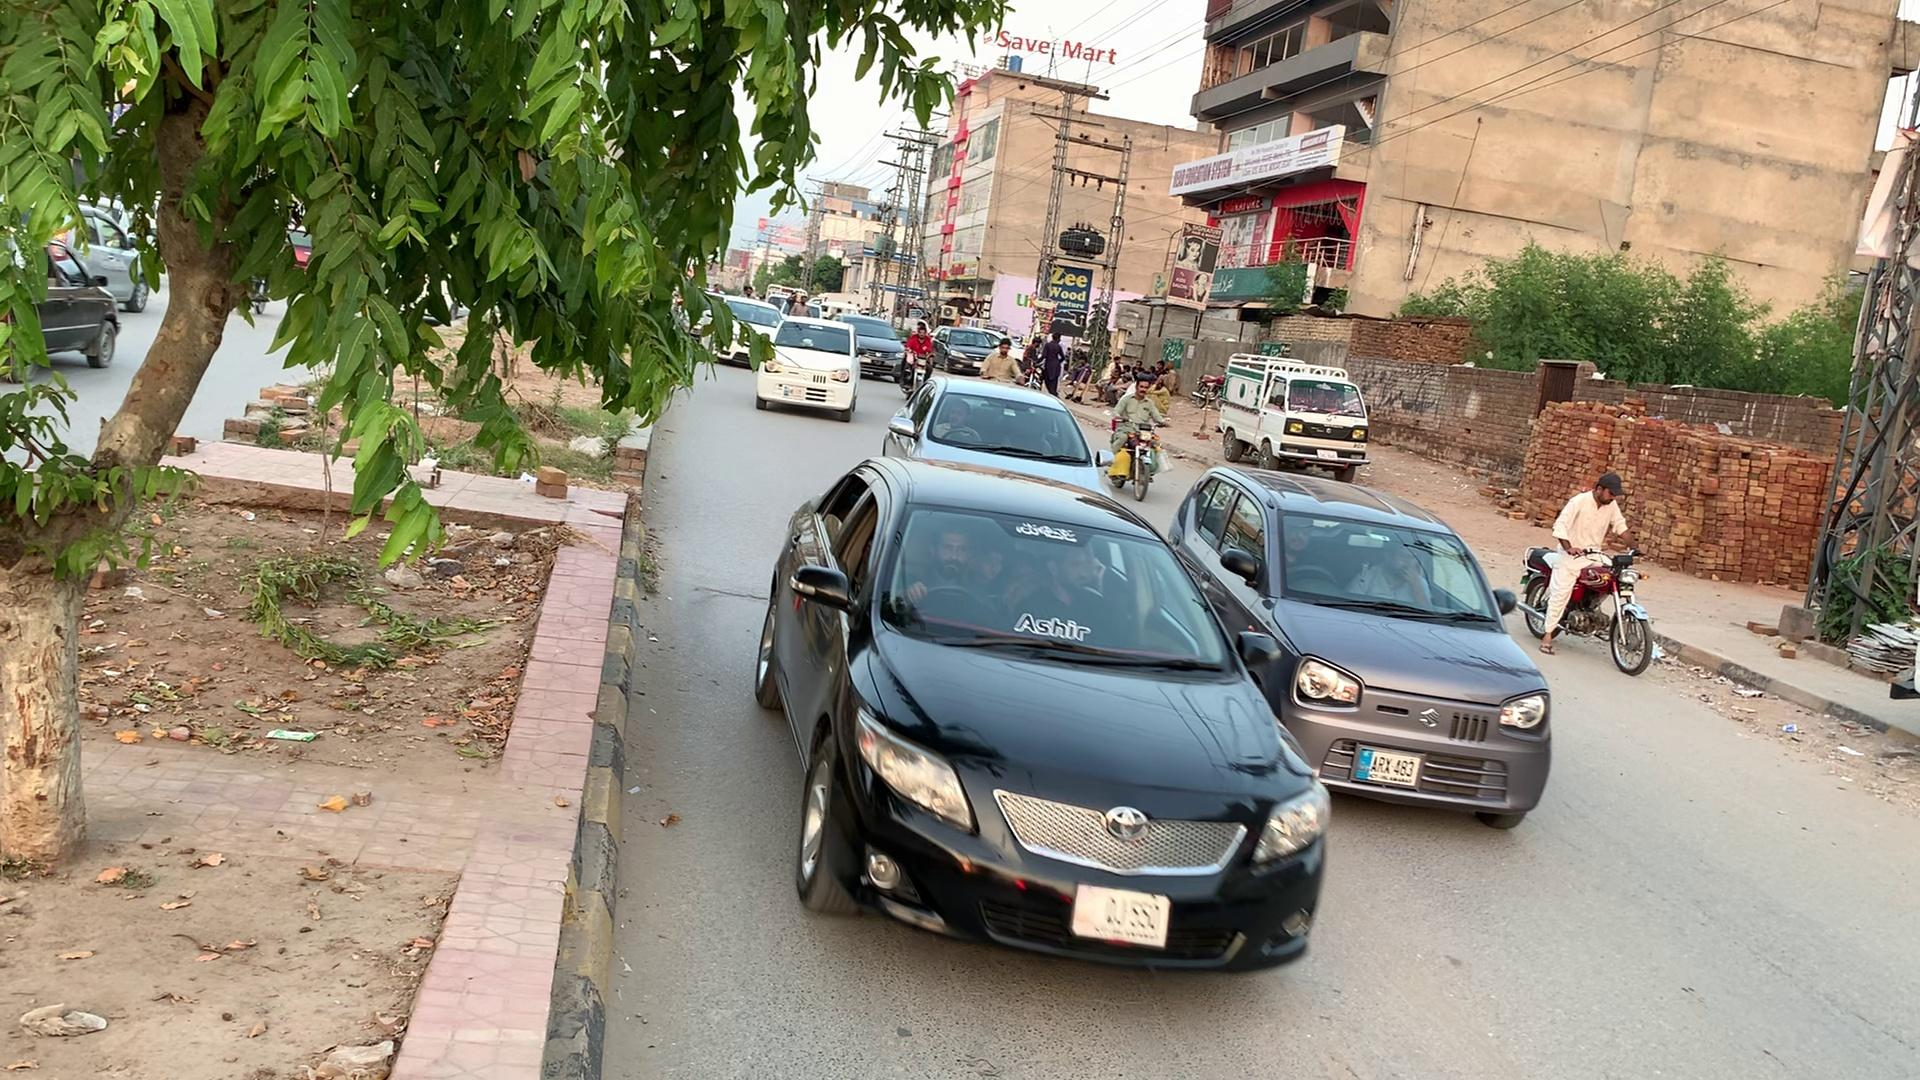windshield: (874, 500, 1247, 680), (1275, 497, 1507, 637)
